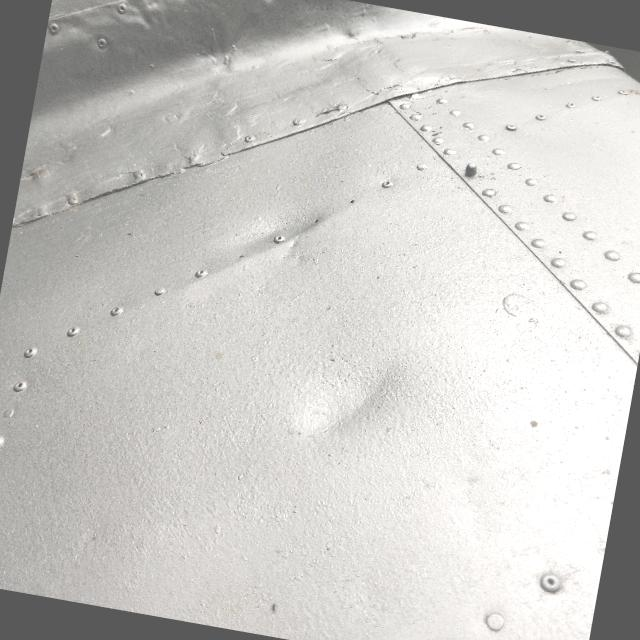dent: (240, 298, 458, 516)
